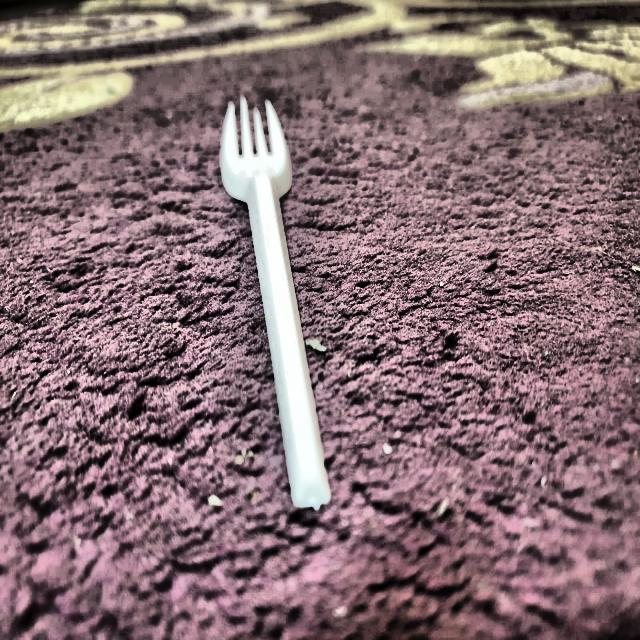plastic utensil: (218, 91, 338, 528)
